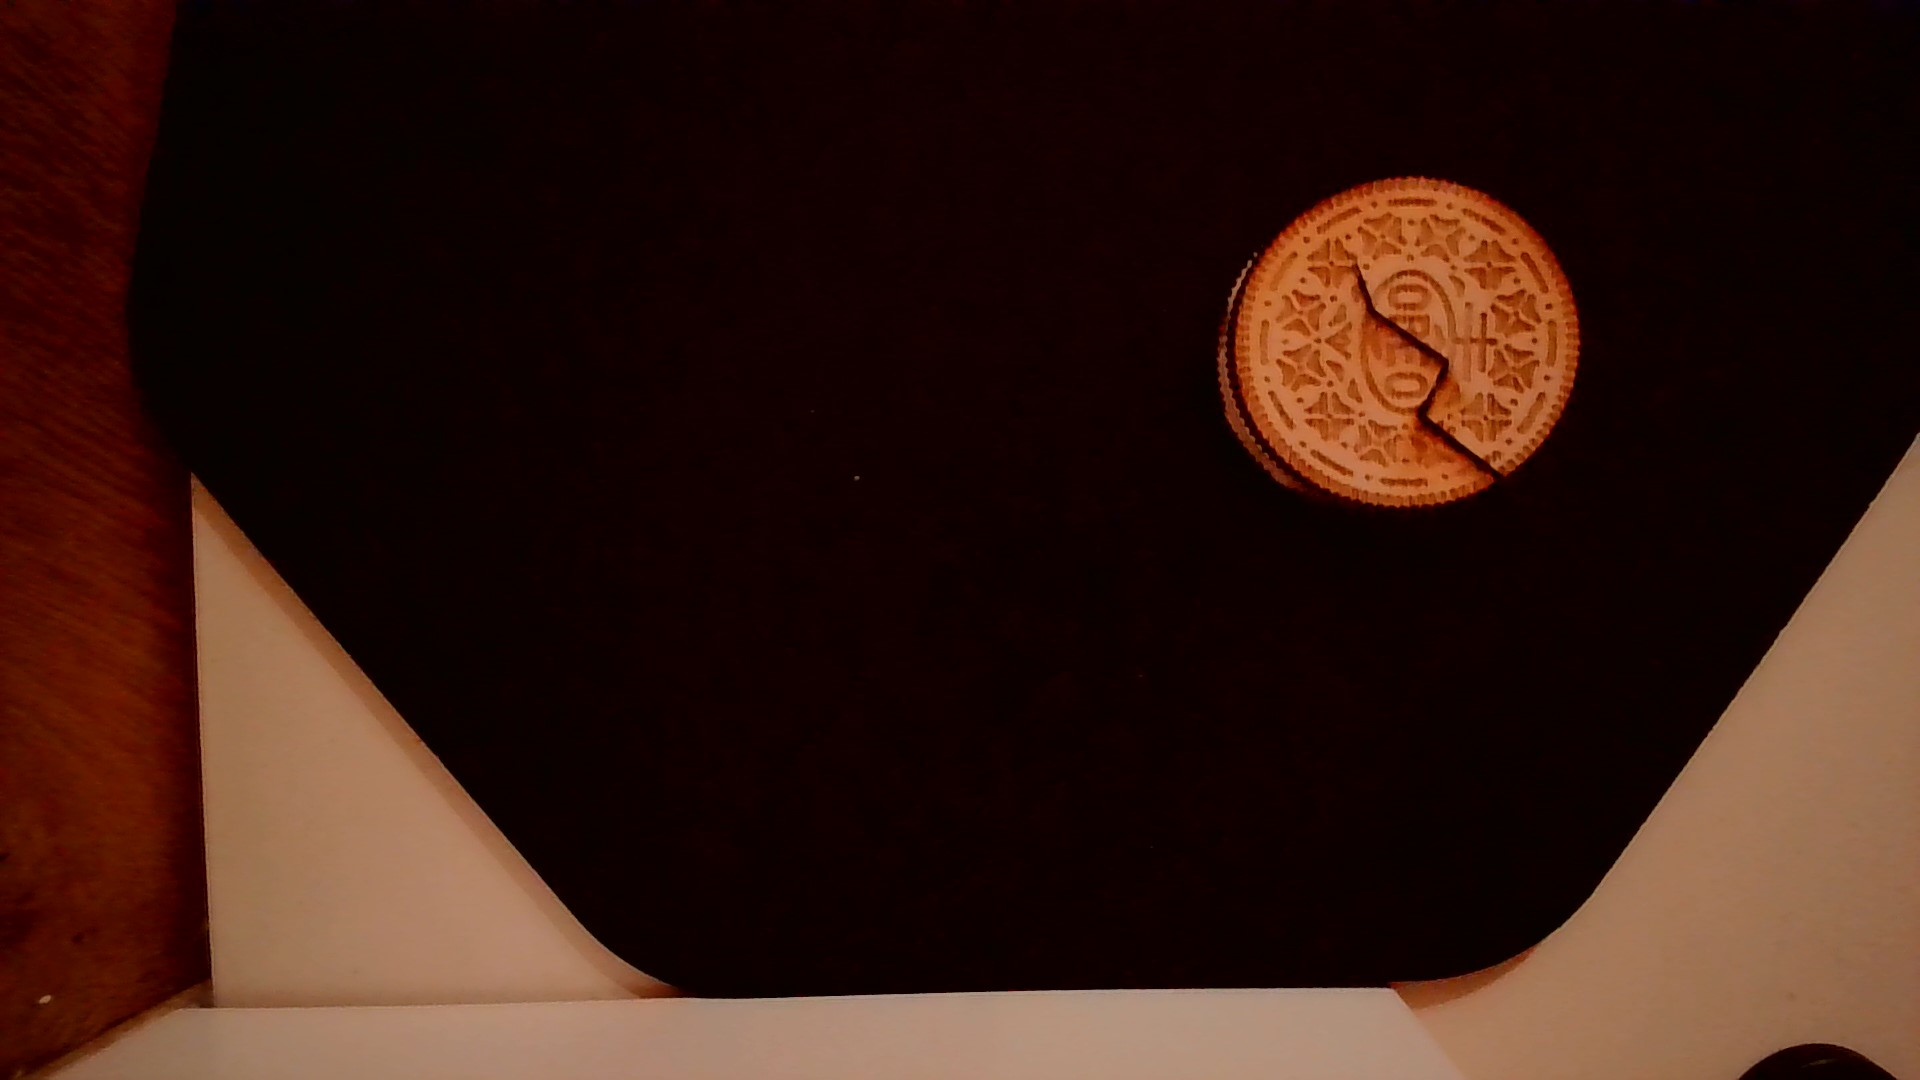Fissure: (1342, 237, 1513, 501)
Oréo: (1204, 156, 1596, 531)
